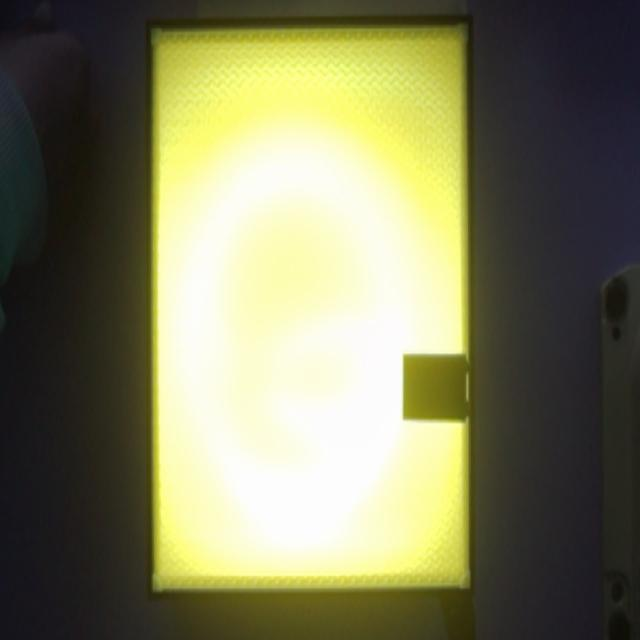bateria: (402, 353, 471, 424)
mesa: (147, 17, 474, 601)
